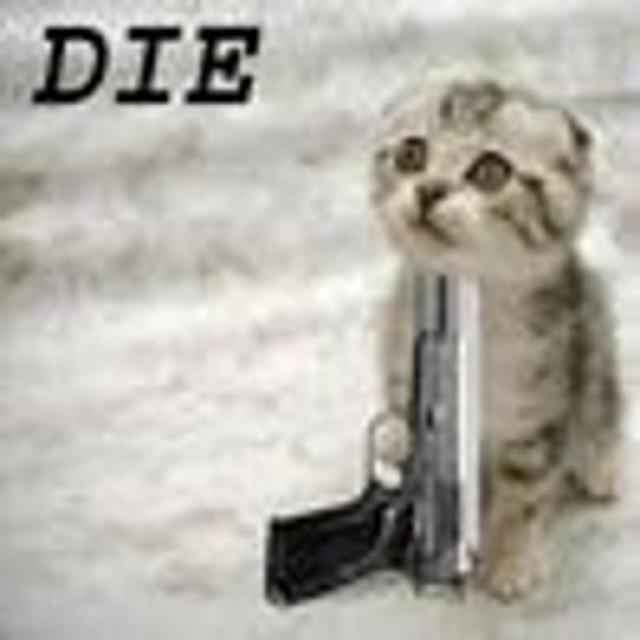pistol: (257, 261, 491, 605)
